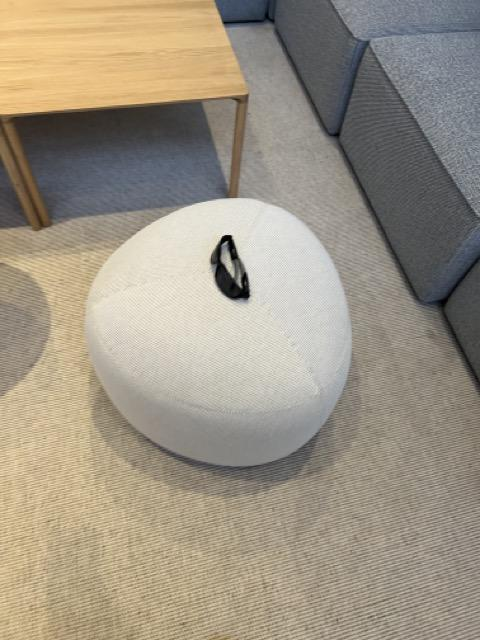Sunglasses: (207, 232, 252, 303)
